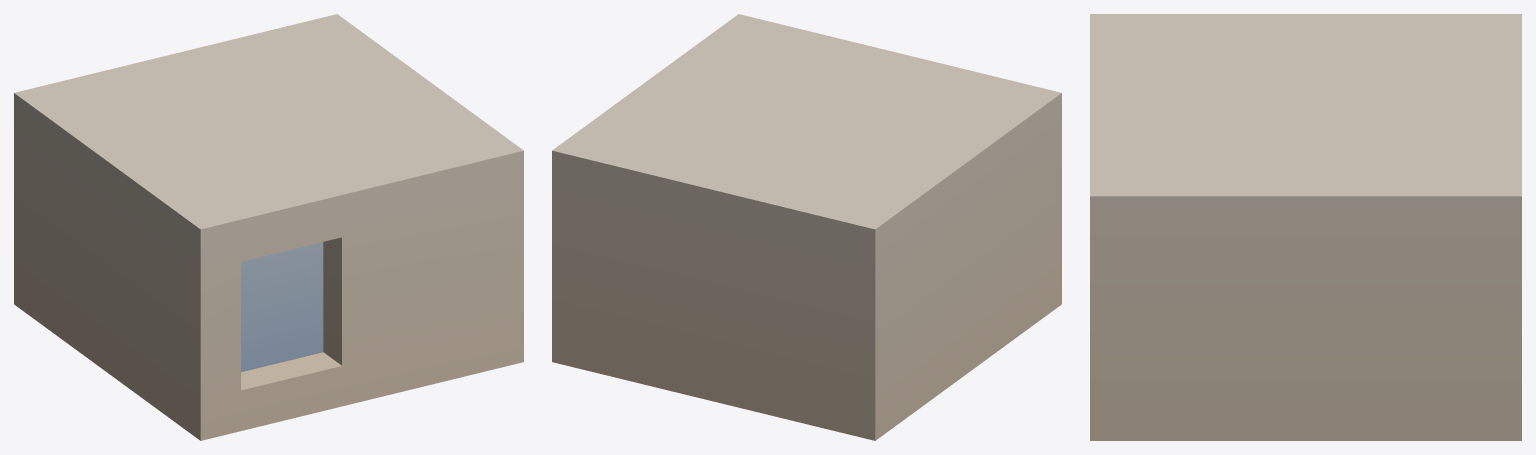
The model's file is building-window-left.glb.
3 views of the same model, side by side, from view 1: azimuth 30°, elevation 25°; view 2: azimuth 150°, elevation 25°; view 3: azimuth 270°, elevation 25° (orthographic). The views are drawn at different scales.
Parts seen in each view (by area): view 1: building-window-left; view 2: building-window-left; view 3: building-window-left.
Part boxes in pixels (x1=…): building-window-left: x1=14, y1=14, x2=523, y2=440; building-window-left: x1=552, y1=14, x2=1061, y2=440; building-window-left: x1=1090, y1=14, x2=1521, y2=440.
Size of the model in its own units: 1 by 0.625 by 1.
